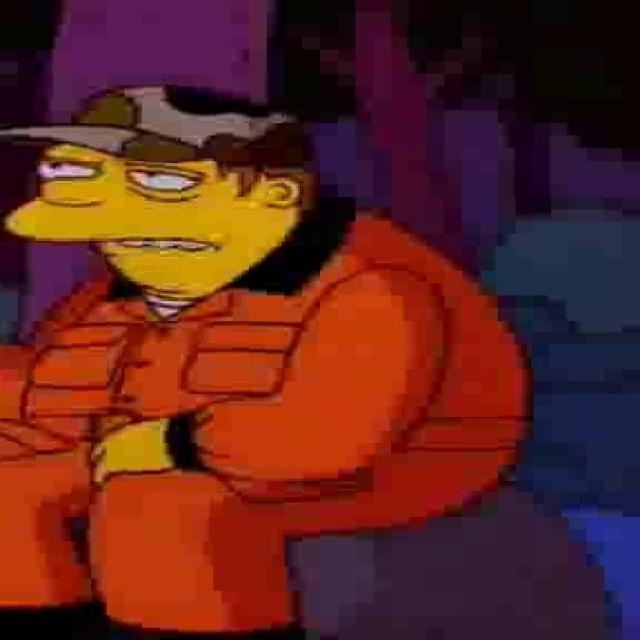Barney Gumble: (7, 81, 309, 301)
